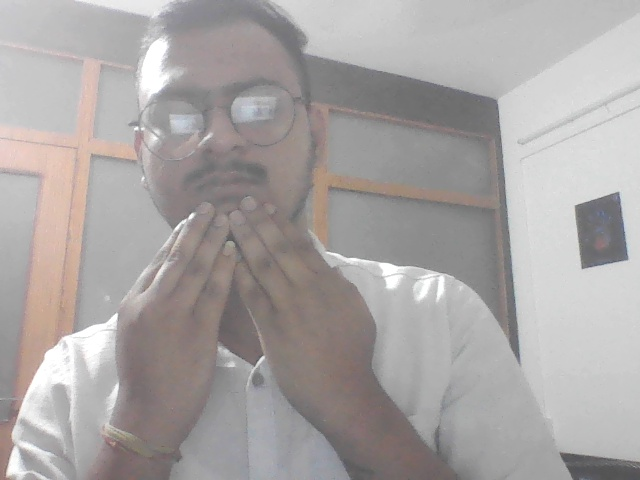ThankYou: (105, 197, 392, 457)
